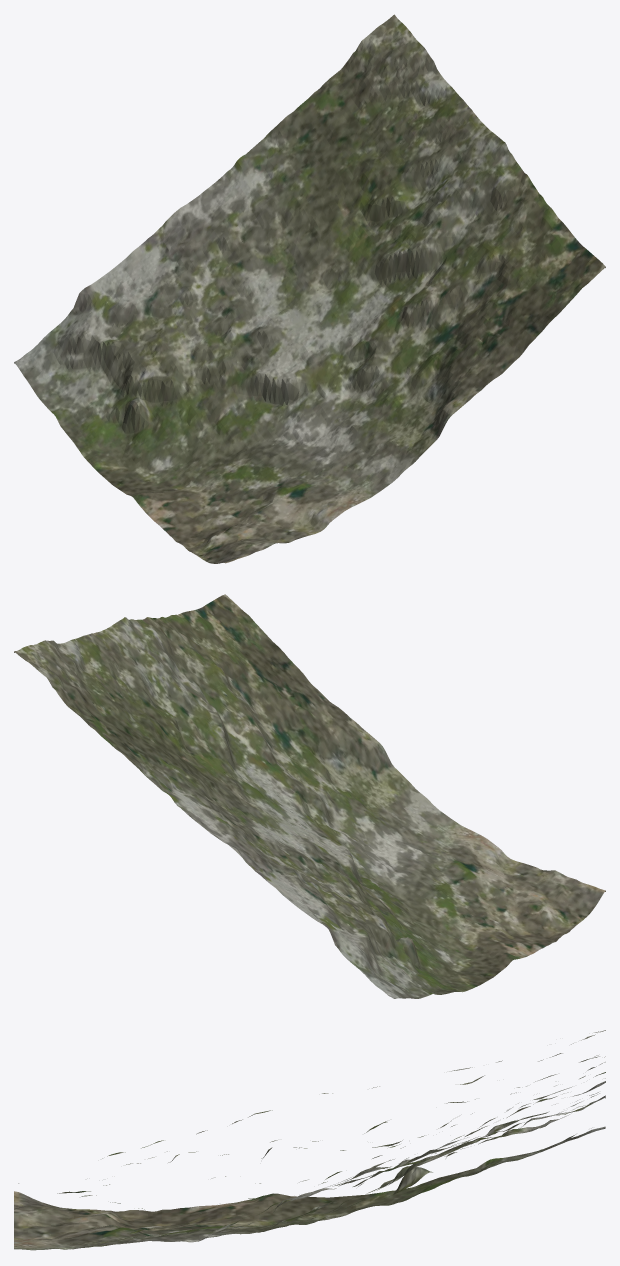
3 renders of one model, top to bottom at view 1: azimuth 30°, elevation 25°; view 2: azimuth 150°, elevation 25°; view 3: azimuth 270°, elevation 25°, orthographic. The views are drawn at different scales.
Bounding box in the file's own units: 250 × 199 × 241.
1 material, 1 textured.
